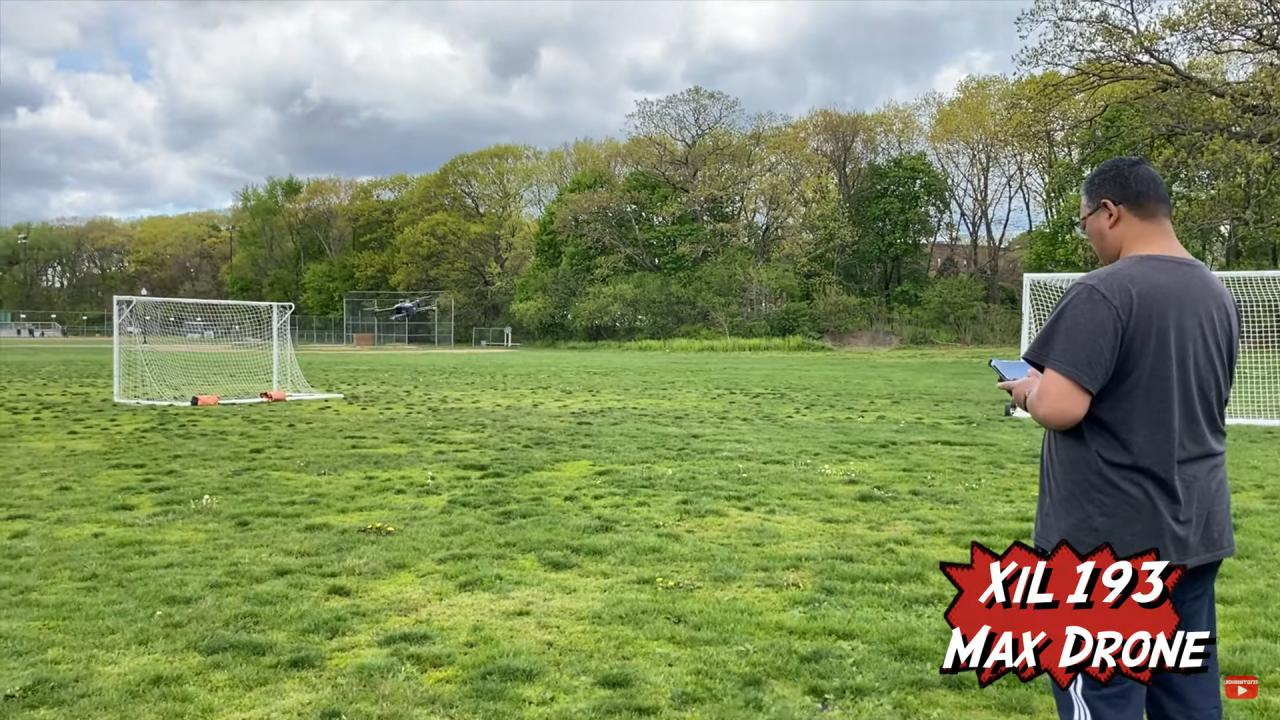Drone: (360, 290, 448, 327)
